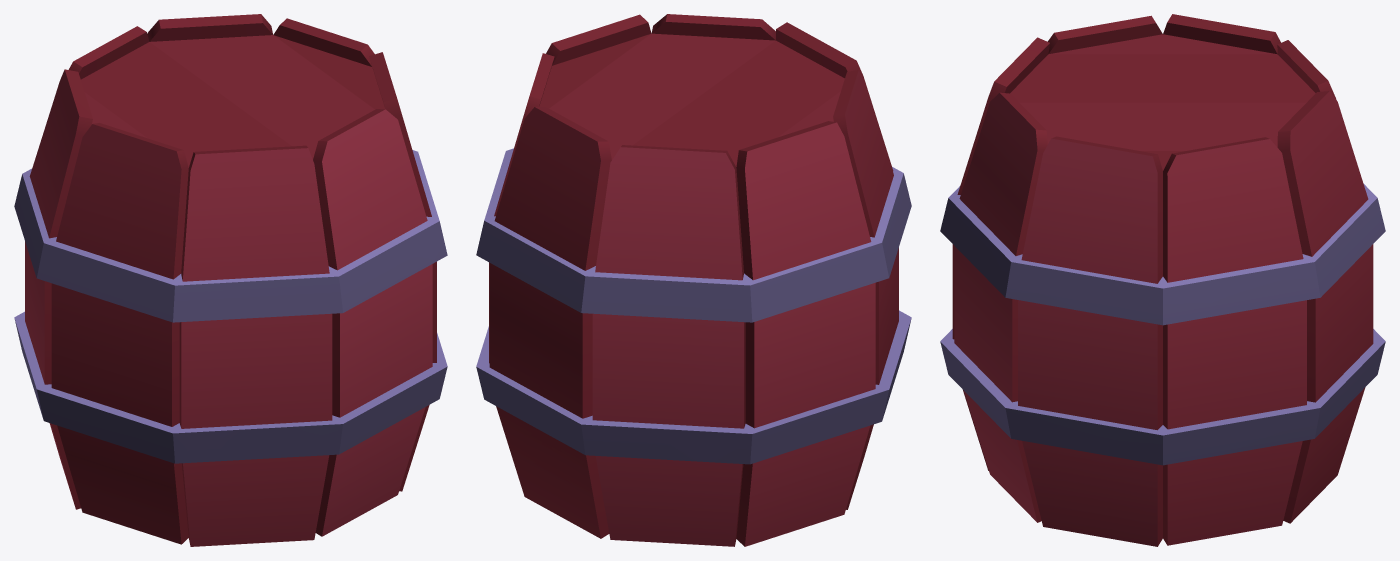
File: Barrel1.fbx
The picture shows the model from 3 angles, left to right: view 1: azimuth 30°, elevation 25°; view 2: azimuth 150°, elevation 25°; view 3: azimuth 270°, elevation 25°; orthographic projection.
Visible parts, largest first — view 1: Barrel; view 2: Barrel; view 3: Barrel.
Part boxes in pixels (box(x1,y1,x2,y2)): Barrel: box(14, 14, 447, 546); Barrel: box(476, 14, 911, 546); Barrel: box(940, 14, 1385, 546).
Size of the model in its own units: 110 by 106 by 110.
